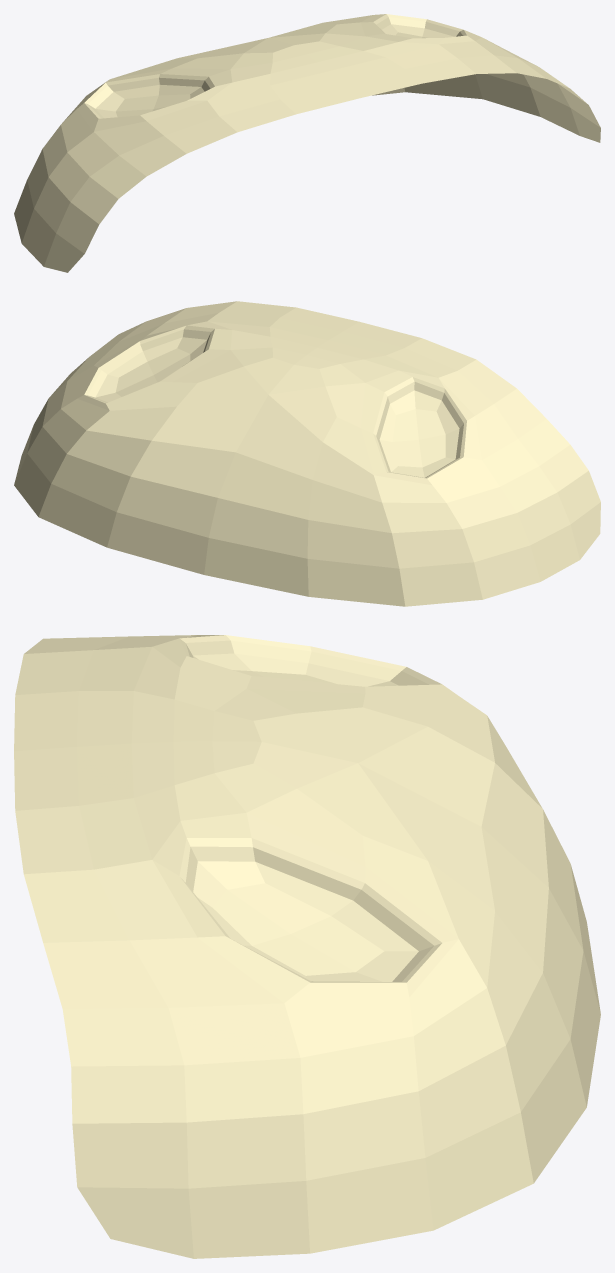
Rendered from Fighter (2) (1).fbx.
3 views of the same model, one above another, from view 1: azimuth 30°, elevation 25°; view 2: azimuth 150°, elevation 25°; view 3: azimuth 270°, elevation 25° (orthographic). The views are drawn at different scales.
Parts seen in each view (by area): view 1: Plane.005; view 2: Plane.005; view 3: Plane.005.
Part boxes in pixels (box(x1,y1,x2,y2)): Plane.005: box(14, 14, 600, 272); Plane.005: box(14, 301, 600, 606); Plane.005: box(14, 635, 600, 1258).
Size of the model in its own units: 3835 by 990 by 1926.
